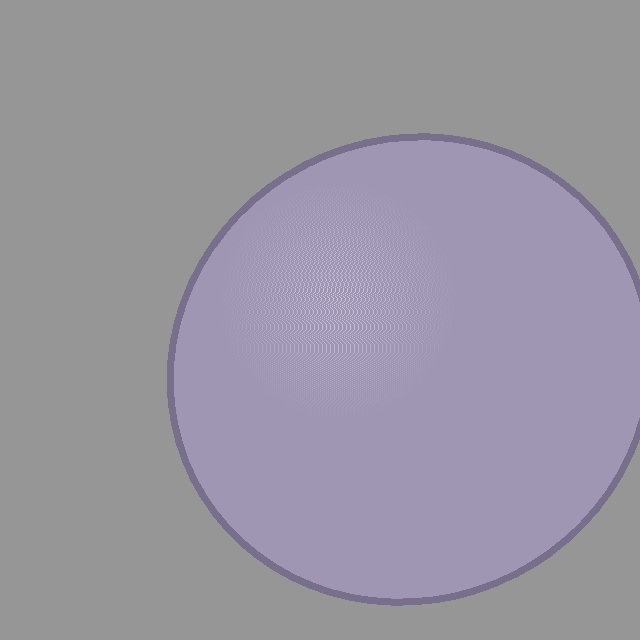lens: (170, 136, 640, 602)
